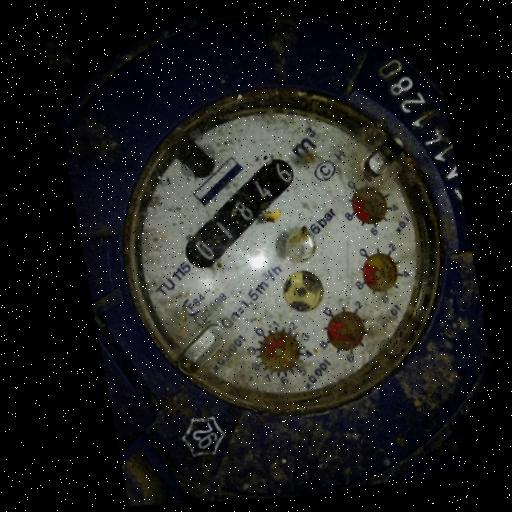0: (183, 227, 225, 270)
1: (201, 205, 244, 251)
4: (242, 167, 284, 210)
6: (261, 150, 300, 191)
8: (221, 185, 265, 232)
border_water_meter_number: (162, 148, 314, 277)
